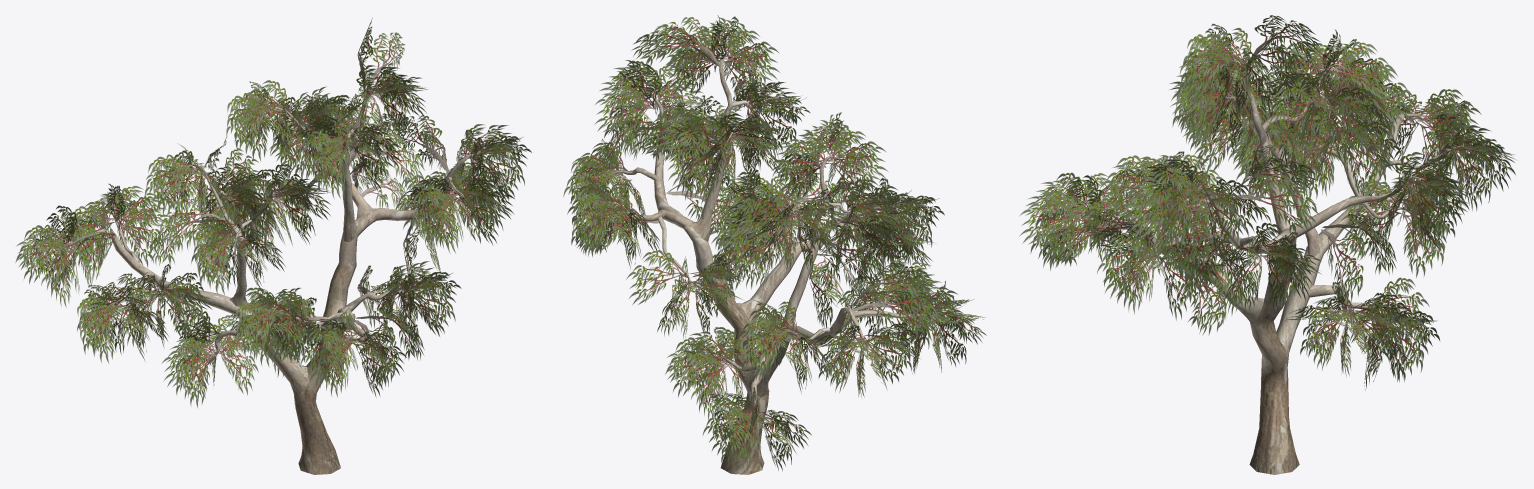
File: ghostgum.glb
3 renders of one model, left to right at view 1: azimuth 30°, elevation 25°; view 2: azimuth 150°, elevation 25°; view 3: azimuth 270°, elevation 25°, orthographic. The views are drawn at different scales.
Visible parts, largest first — view 1: polySurface52; view 2: polySurface52; view 3: polySurface52.
Part boxes in pixels (x1=…): polySurface52: x1=15, y1=18, x2=531, y2=474; polySurface52: x1=563, y1=15, x2=986, y2=474; polySurface52: x1=1019, y1=15, x2=1515, y2=474.
Size of the model in its own units: 656 by 651 by 615.
2 materials, 2 textured.
